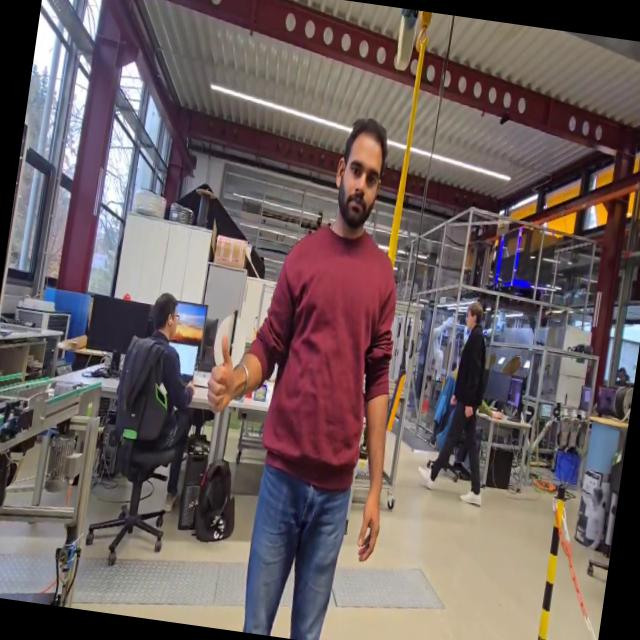thumbs_up: (200, 328, 246, 422)
